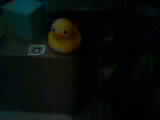duck: (40, 14, 83, 60)
